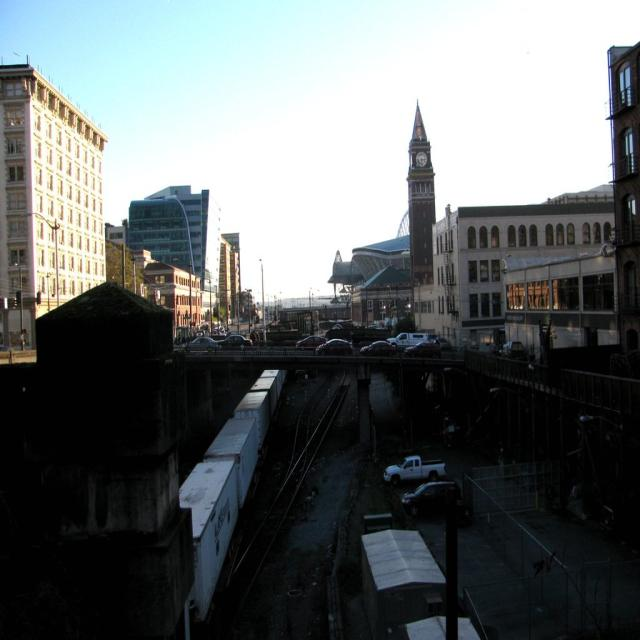car: (402, 477, 460, 516), (182, 325, 221, 344), (316, 337, 353, 356), (403, 339, 438, 358), (220, 333, 252, 351), (359, 338, 397, 351), (297, 330, 324, 347), (500, 335, 523, 351)
